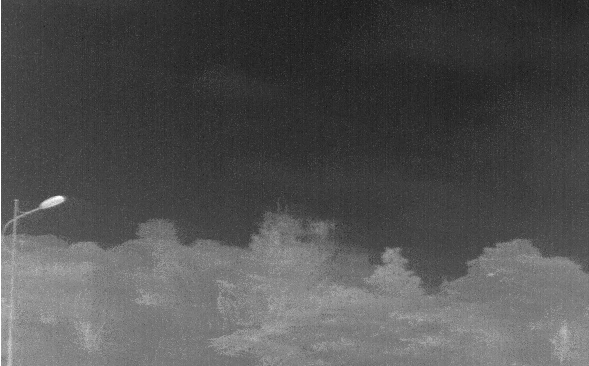dim target: (485, 271, 497, 277)
